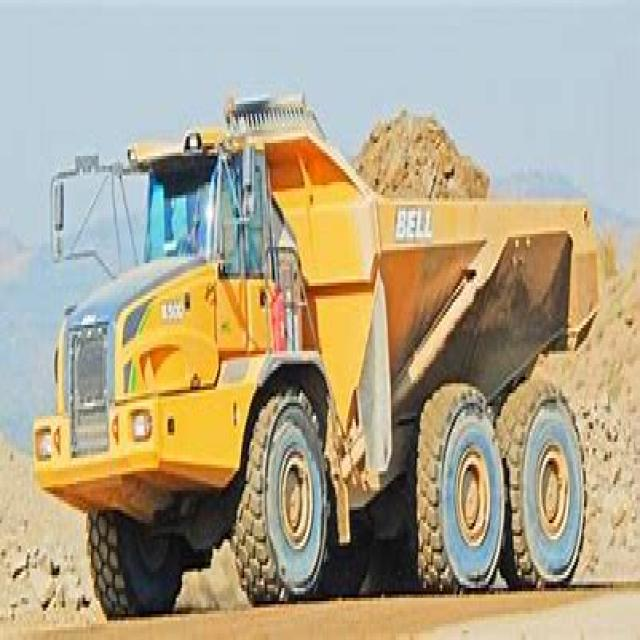dump_truck: (27, 71, 608, 604)
